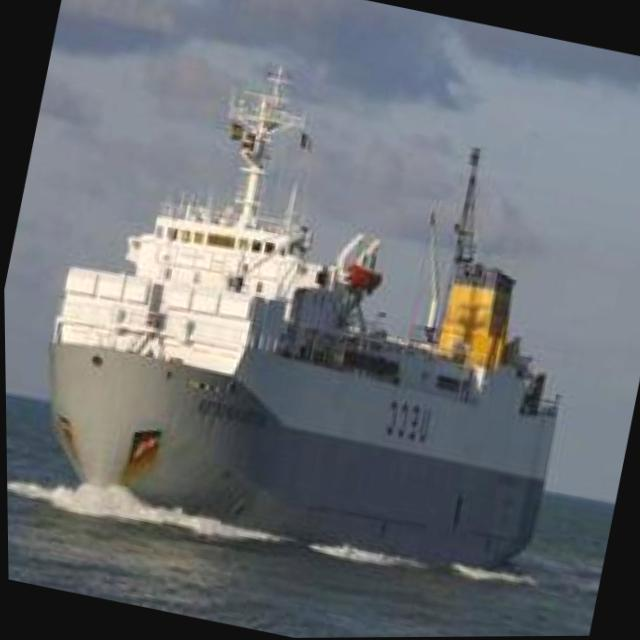ship2: (47, 68, 560, 572)
